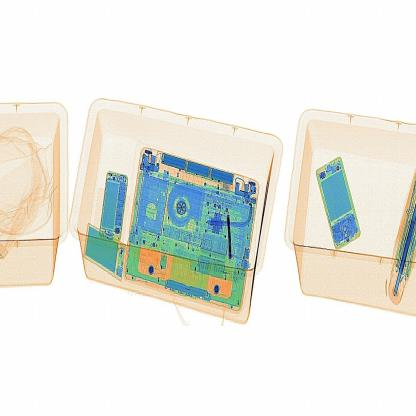knife: (218, 203, 254, 267)
